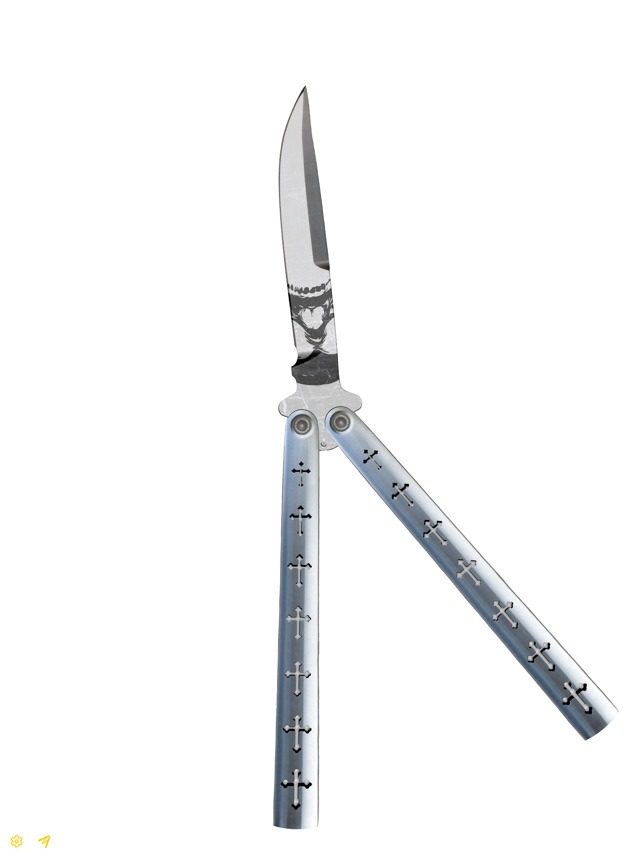knife: (256, 84, 621, 835)
